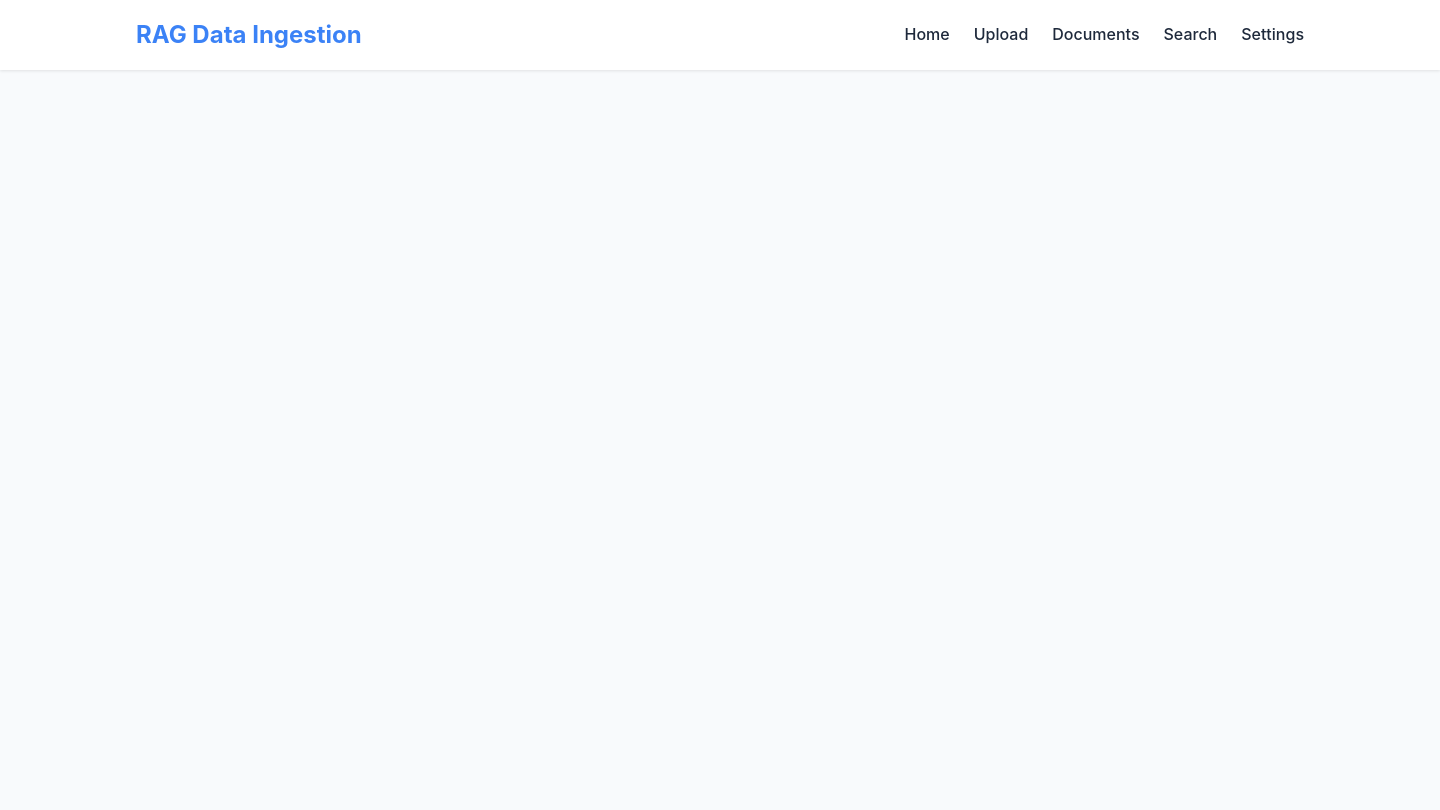
Test case: Header with Settings › should open settings modal when settings button is clicked
The width and height of the screenshot is (1440, 810).
Click the button "Settings" at point(1273, 34), box [1241, 24, 1304, 44]
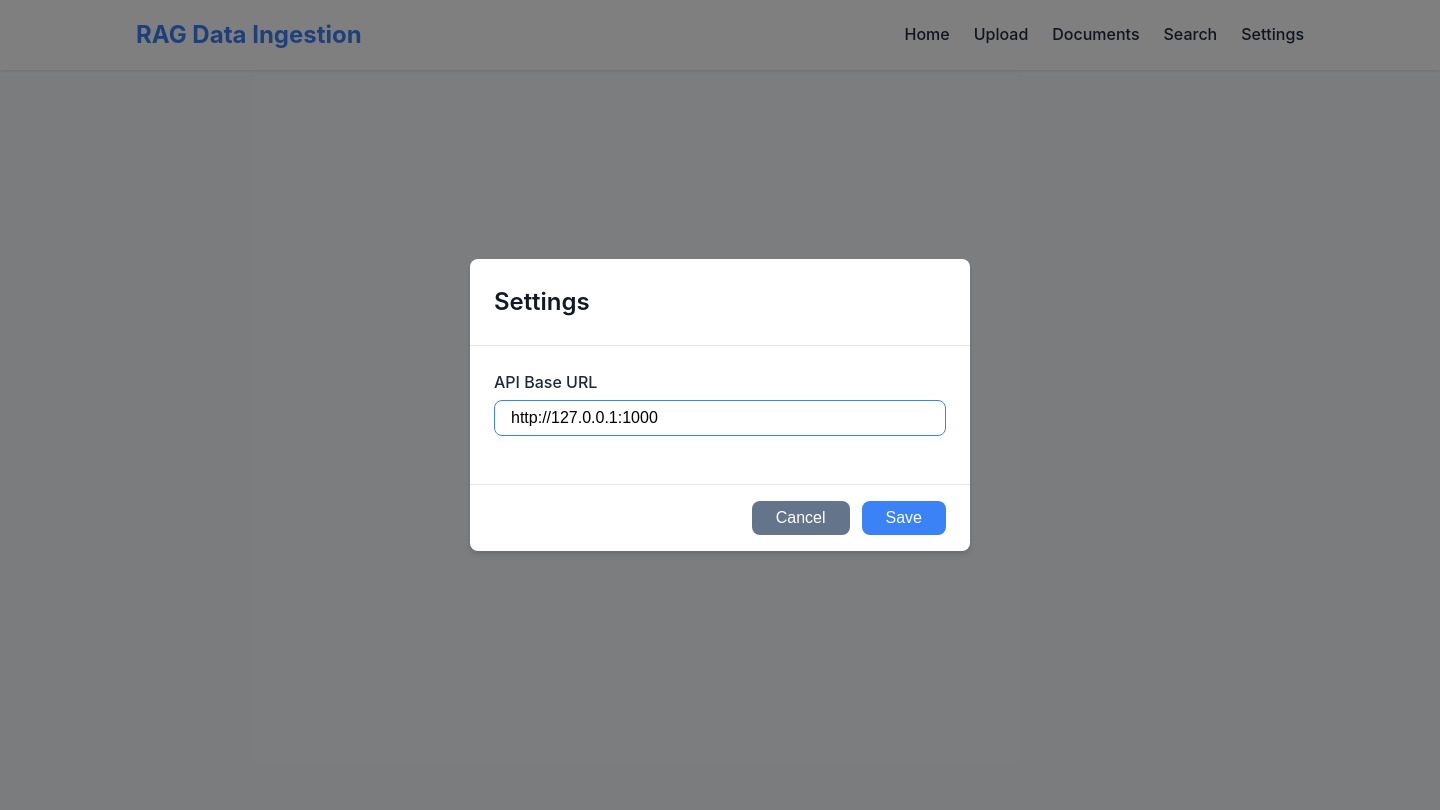
Result: the dialog is shown at [470, 259, 970, 551]
Result: the heading "Settings" is shown at [494, 287, 590, 316]
